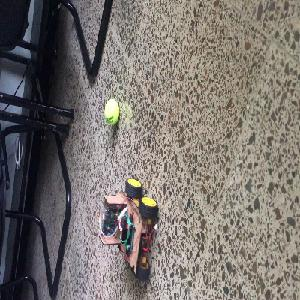Ball: (102, 99, 120, 125)
Robot: (99, 178, 159, 280)
